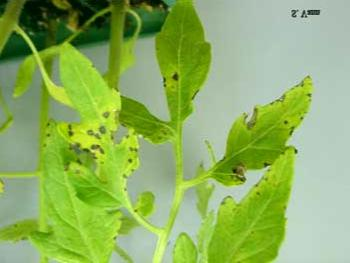Tomato leaf bacterial spot: (54, 40, 148, 212), (195, 73, 313, 193), (155, 0, 213, 135)
